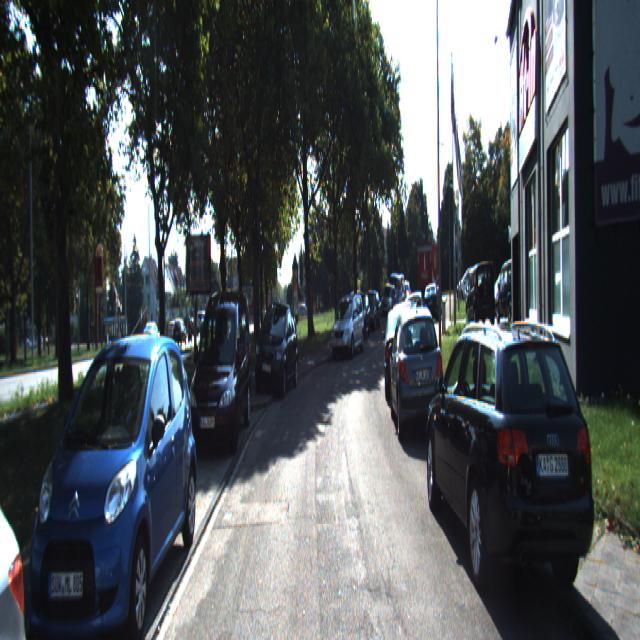Car: (420, 311, 606, 638), (22, 321, 200, 638), (183, 286, 254, 458), (388, 300, 446, 448), (254, 297, 298, 399), (384, 306, 418, 409), (330, 298, 366, 362), (416, 237, 439, 304)
